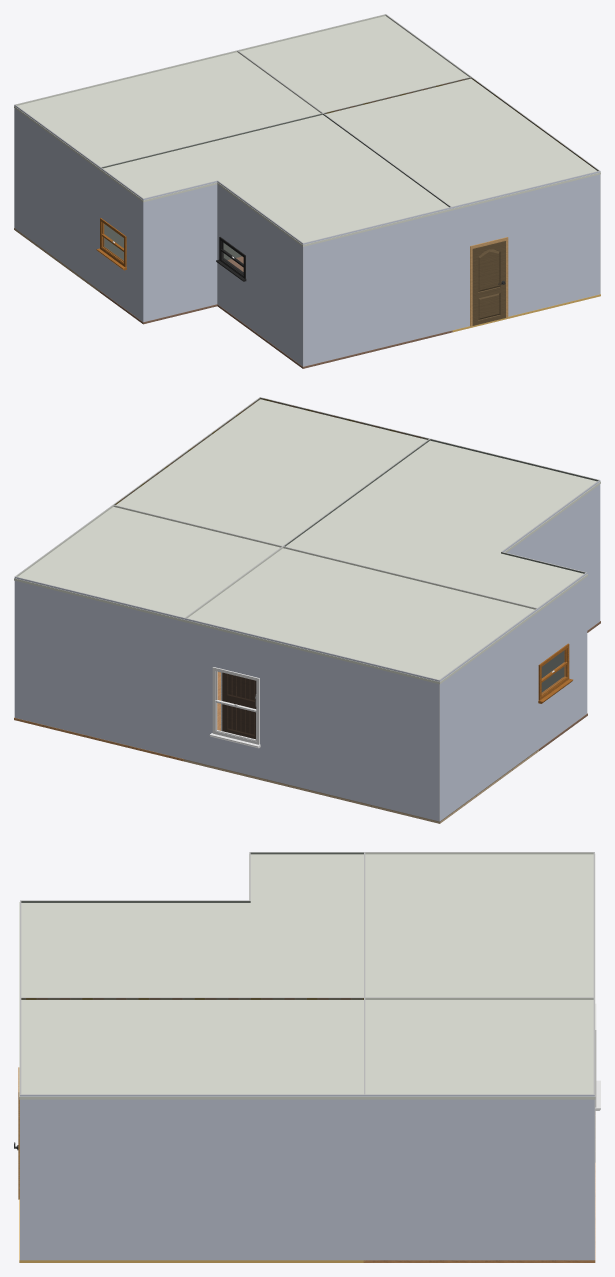
File: ProcTHOR-Train-86.glb
3 renders of one model, top to bottom at view 1: azimuth 30°, elevation 25°; view 2: azimuth 150°, elevation 25°; view 3: azimuth 270°, elevation 25°, orthographic. The views are drawn at different scales.
Visible parts, largest first — view 1: Ceiling#room|6|c, Ceiling#room|7|c, Ceiling#room|4|c, WallInside#wall|exterior|4.08|10.21|8.17|10.21, WallInside#wall|exterior|0.00|10.21|4.08|10.21, Ceiling#room|5|c, WallInside#wall|exterior|10.21|0.00|10.21|4.08, WallInside#wall|exterior|8.17|6.13|8.17|10.21, WallInside#wall|exterior|8.17|6.13|10.21|6.13, WallInside#wall|exterior|10.21|4.08|10.21|6.13, Doorway_6, Floor#room|6|f (+4 smaller); view 2: WallInside#wall|exterior|4.08|0.00|10.21|0.00, Ceiling#room|6|c, Ceiling#room|4|c, WallInside#wall|exterior|0.00|0.00|4.08|0.00, Ceiling#room|7|c, Ceiling#room|5|c, WallInside#wall|exterior|10.21|0.00|10.21|4.08, WallInside#wall|exterior|10.21|4.08|10.21|6.13, WallInside#wall|exterior|8.17|6.13|8.17|10.21, Doorway_9_open, Window_Hung_44x60, Floor#room|4|f (+4 smaller); view 3: WallInside#wall|exterior|0.00|4.08|0.00|10.21, Ceiling#room|6|c, WallInside#wall|exterior|0.00|0.00|0.00|4.08, Ceiling#room|7|c, Ceiling#room|4|c, Ceiling#room|5|c, Floor#room|7|f, WallInside#wall|7|4.08|4.08|4.08|10.21, Floor#room|5|f, WallInside#wall|6|8.17|6.13|8.17|10.21, WallInside#wall|4|10.21|0.00|10.21|4.08, WallInside#wall|5|4.08|0.00|4.08|4.08.
Boxes of the visible parts, x1,y1,x2,y2 form: Ceiling#room|6|c: (100,115,452,246); Ceiling#room|7|c: (323,78,600,210); Ceiling#room|4|c: (14,52,321,170); WallInside#wall|exterior|4.08|10.21|8.17|10.21: (303,207,452,366); WallInside#wall|exterior|0.00|10.21|4.08|10.21: (451,171,600,330); Ceiling#room|5|c: (240,16,470,114); WallInside#wall|exterior|10.21|0.00|10.21|4.08: (14,105,100,290); WallInside#wall|exterior|8.17|6.13|8.17|10.21: (217,181,302,366); WallInside#wall|exterior|8.17|6.13|10.21|6.13: (143,180,217,322); WallInside#wall|exterior|10.21|4.08|10.21|6.13: (100,167,143,321); Doorway_6: (470,237,508,326); Floor#room|6|f: (99,256,452,368); WallInside#wall|exterior|4.08|0.00|10.21|0.00: (184,618,439,821); Ceiling#room|6|c: (285,440,600,611); Ceiling#room|4|c: (183,548,538,684); WallInside#wall|exterior|0.00|0.00|4.08|0.00: (14,576,184,759); Ceiling#room|7|c: (116,399,426,547); Ceiling#room|5|c: (14,507,282,621); WallInside#wall|exterior|10.21|0.00|10.21|4.08: (439,608,538,821); WallInside#wall|exterior|10.21|4.08|10.21|6.13: (538,573,587,748); WallInside#wall|exterior|8.17|6.13|8.17|10.21: (502,480,600,630); Doorway_9_open: (221,672,256,739); Window_Hung_44x60: (209,667,260,748); Floor#room|4|f: (183,749,538,823); WallInside#wall|exterior|0.00|4.08|0.00|10.21: (20,1094,364,1260); Ceiling#room|6|c: (19,854,365,999); WallInside#wall|exterior|0.00|0.00|0.00|4.08: (364,1094,594,1260); Ceiling#room|7|c: (19,1000,365,1099); Ceiling#room|4|c: (363,854,595,999); Ceiling#room|5|c: (363,1000,595,1099); Floor#room|7|f: (19,1199,365,1262); WallInside#wall|7|4.08|4.08|4.08|10.21: (21,997,363,999); Floor#room|5|f: (363,1163,595,1262); WallInside#wall|6|8.17|6.13|8.17|10.21: (21,900,250,902); WallInside#wall|4|10.21|0.00|10.21|4.08: (365,852,594,854); WallInside#wall|5|4.08|0.00|4.08|4.08: (365,997,593,999).
Size of what is drawn, in the model's own units: 10.35 by 3.3 by 10.45.
274 materials, 104 textured.
